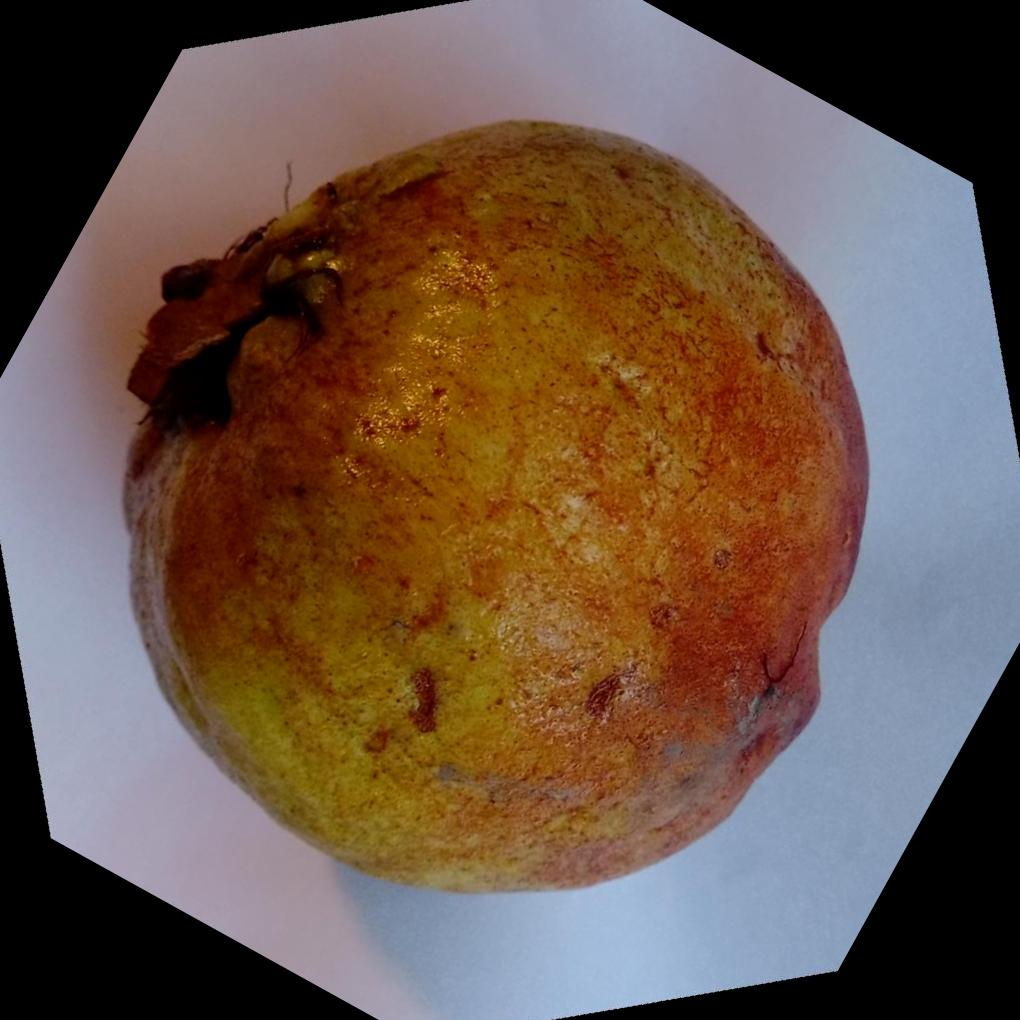FreshOrange: (118, 118, 869, 900)
